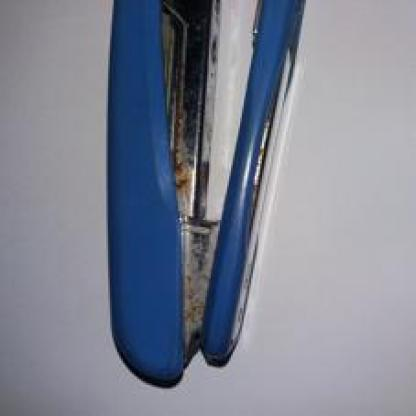stapler: (75, 1, 309, 391)
